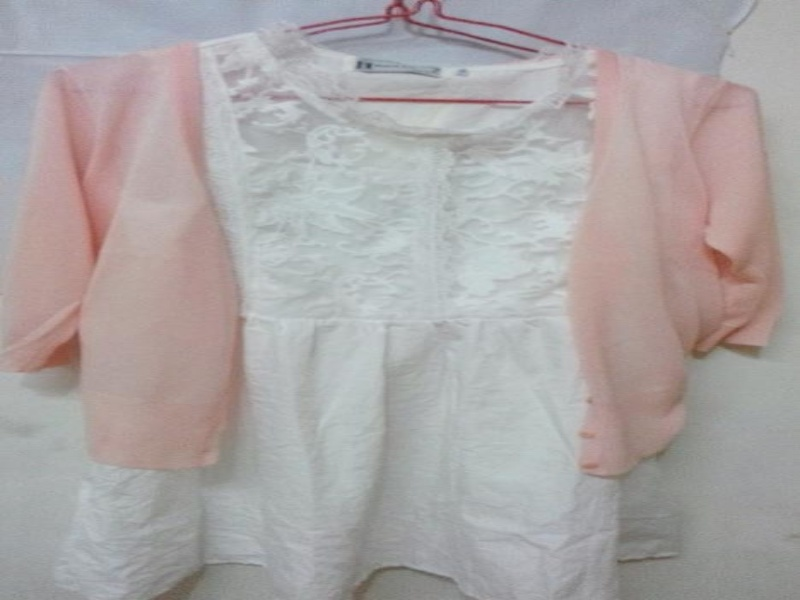long_sleeved_outwear: (3, 40, 795, 479)
vest_dress: (46, 22, 699, 599)
